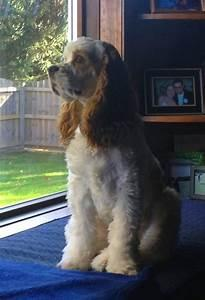dog: (46, 35, 181, 276)
